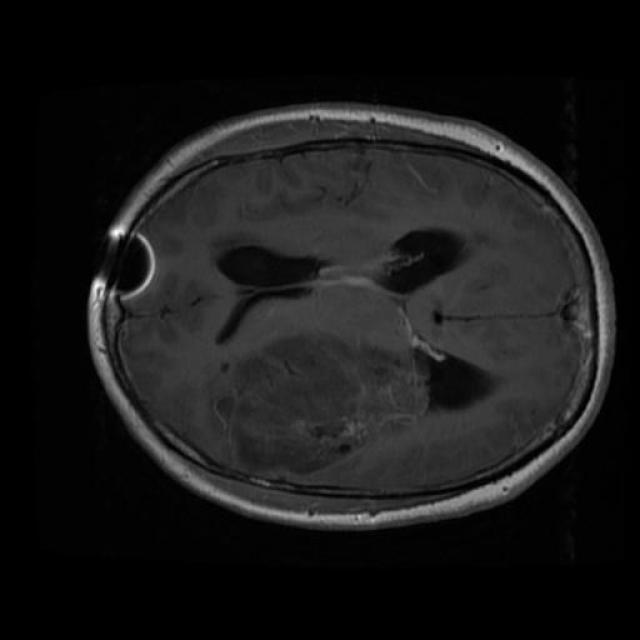Glioma: (216, 335, 422, 474)
